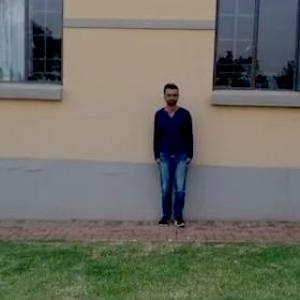follow: (152, 82, 195, 226)
